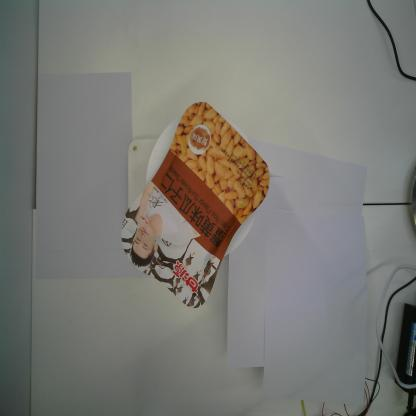Dried Fruit: (120, 101, 270, 310)
